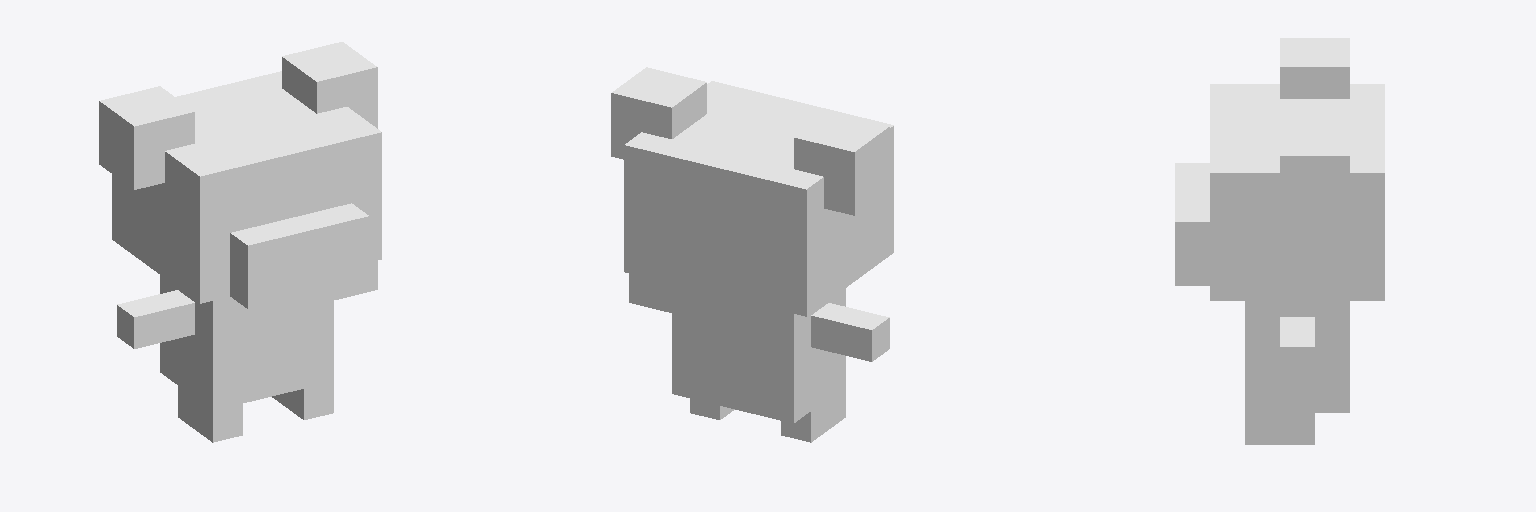
File: teddybear3.obj
The picture shows the model from 3 angles: view 1: azimuth 30°, elevation 25°; view 2: azimuth 150°, elevation 25°; view 3: azimuth 270°, elevation 25°; orthographic projection.
Parts seen in each view (by area): view 1: object 1; view 2: object 1; view 3: object 1.
Part boxes in pixels (x1,y1,x2,y2): object 1: (99, 42, 381, 442); object 1: (611, 67, 893, 442); object 1: (1175, 38, 1384, 444).
Bounding box in the file's own units: 0.8 × 1 × 0.6.